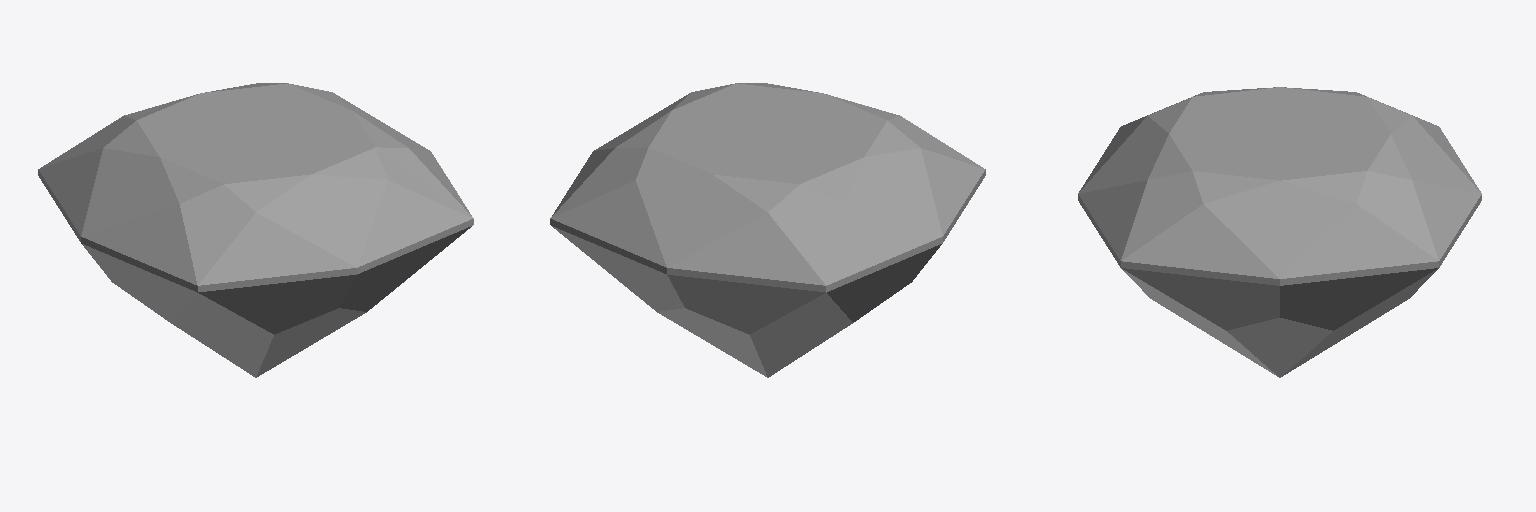
Rendered from gem.obj.
3 views of the same model, side by side, from view 1: azimuth 30°, elevation 25°; view 2: azimuth 150°, elevation 25°; view 3: azimuth 270°, elevation 25° (orthographic).
Parts seen in each view (by area): view 1: novice4__0; view 2: novice4__0; view 3: novice4__0.
Part boxes in pixels (left/top/right/bottom): novice4__0: left=38, top=83, right=473, bottom=377; novice4__0: left=550, top=83, right=985, bottom=377; novice4__0: left=1078, top=87, right=1481, bottom=377.
Bounding box in the file's own units: 0.2232 × 0.1489 × 0.2232.